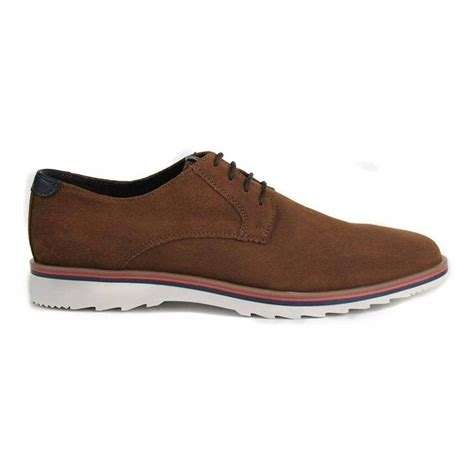gamuza: (26, 150, 444, 295)
